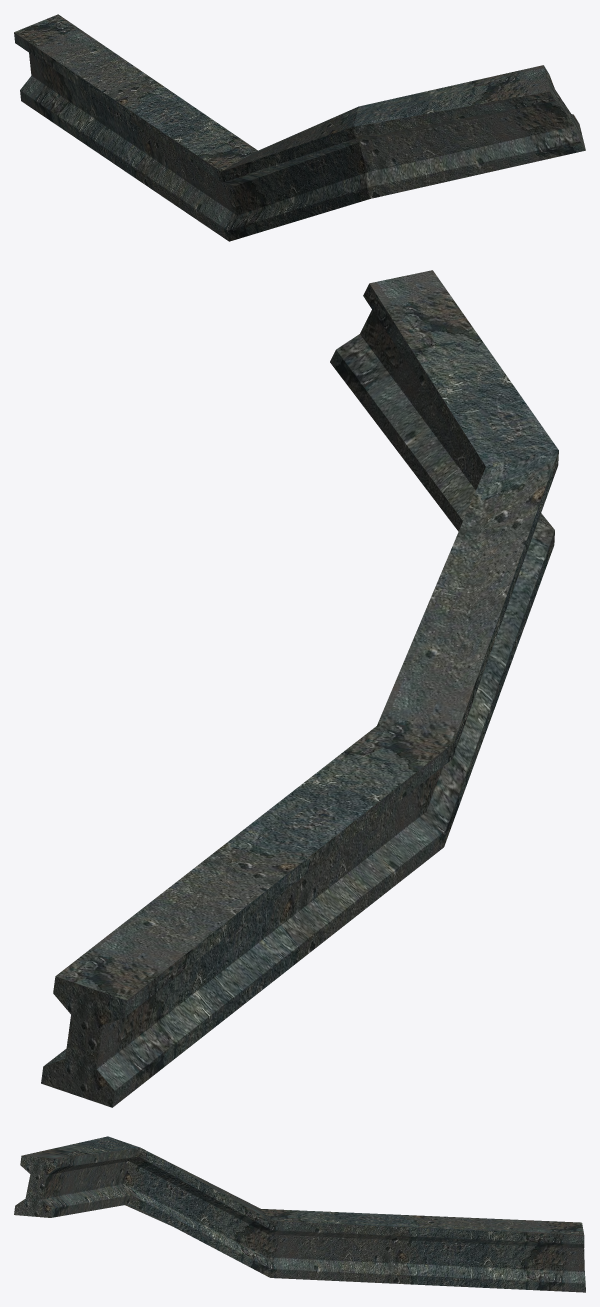
Rendered from prop_rubble_bar_big_04.glb.
The picture shows the model from 3 angles, top to bottom: view 1: azimuth 30°, elevation 25°; view 2: azimuth 150°, elevation 25°; view 3: azimuth 270°, elevation 25°; orthographic projection. The views are drawn at different scales.
Bounding box in the file's own units: 25.09 × 26.8 × 74.29.
1 material, 1 textured.
